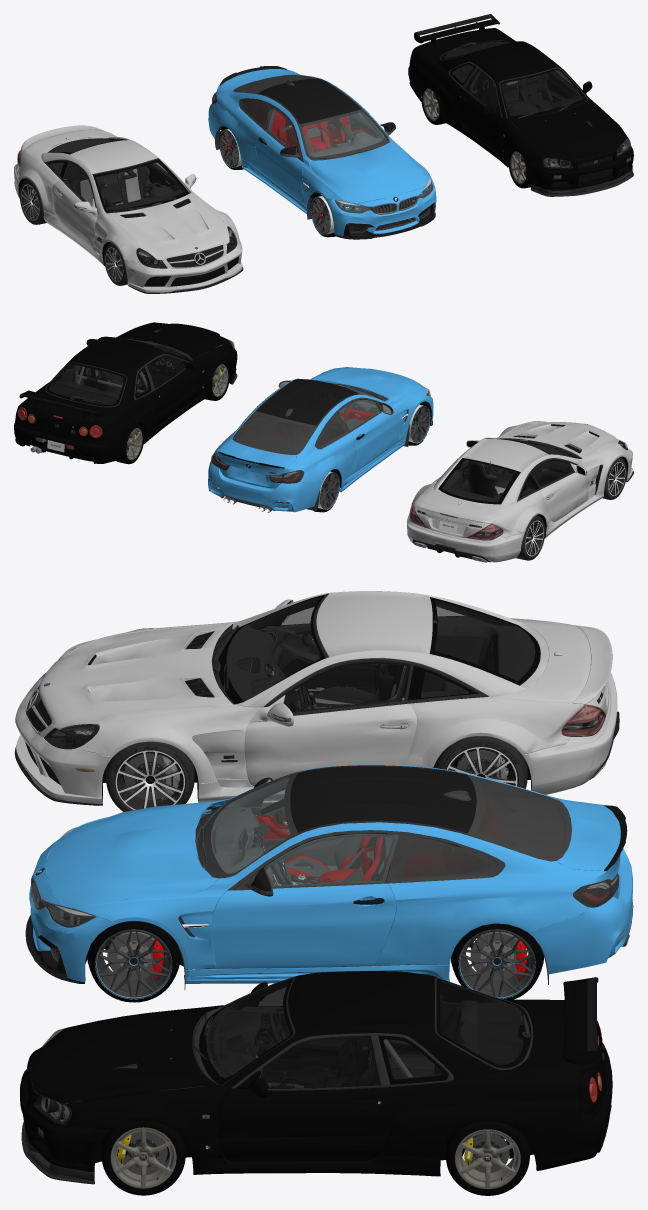
The model's file is cars_7_new.fbx.
3 renders of one model, top to bottom at view 1: azimuth 30°, elevation 25°; view 2: azimuth 150°, elevation 25°; view 3: azimuth 270°, elevation 25°, orthographic. The views are drawn at different scales.
Parts seen in each view (by area): view 1: Body_mMercedesBenz_SL65AMGBla.017, Body_r1Nissan_SkylineGTRR34TN.007, Body_ARm4_main, SeeThrough_mMercedesBenz_SL65AMGBla, SeeThrough_r1Nissan_SkylineGTRR34TN, Body_ARm4_common_carbon, Body_mMercedesBenz_SL65AMGBla.014, Body_ARm4_common_black, SeeThrough_ARm4_glass, Body_r1Nissan_SkylineGTRR34TN.008, Body_r1Nissan_SkylineGTRR34TN.006, Body_mMercedesBenz_SL65AMGBla.003 (+18 smaller); view 2: Body_mMercedesBenz_SL65AMGBla.017, Body_r1Nissan_SkylineGTRR34TN.007, Body_ARm4_main, SeeThrough_r1Nissan_SkylineGTRR34TN, SeeThrough_mMercedesBenz_SL65AMGBla, Body_ARm4_common_carbon, Body_r1Nissan_SkylineGTRR34TN.008, Body_mMercedesBenz_SL65AMGBla.014, Body_ARm4_common_black, Body_ARm4_glass_tinted, Body_r1Nissan_SkylineGTRR34TN.006, Body_mMercedesBenz_SL65AMGBla.003 (+16 smaller); view 3: Body_r1Nissan_SkylineGTRR34TN.007, Body_mMercedesBenz_SL65AMGBla.017, Body_ARm4_main, SeeThrough_mMercedesBenz_SL65AMGBla, SeeThrough_r1Nissan_SkylineGTRR34TN, Body_mMercedesBenz_SL65AMGBla.014, Body_r1Nissan_SkylineGTRR34TN.008, Body_ARm4_common_carbon, Body_ARm4_common_black, SeeThrough_ARm4_glass, Body_r1Nissan_SkylineGTRR34TN.006, Body_mMercedesBenz_SL65AMGBla.003 (+17 smaller).
Part boxes in pixels (x1=…): Body_mMercedesBenz_SL65AMGBla.017: x1=14, y1=125, x2=242, y2=292; Body_r1Nissan_SkylineGTRR34TN.007: x1=408, y1=14, x2=633, y2=189; Body_ARm4_main: x1=208, y1=69, x2=436, y2=236; SeeThrough_mMercedesBenz_SL65AMGBla: x1=17, y1=138, x2=236, y2=268; SeeThrough_r1Nissan_SkylineGTRR34TN: x1=443, y1=41, x2=631, y2=178; Body_ARm4_common_carbon: x1=219, y1=66, x2=435, y2=239; Body_mMercedesBenz_SL65AMGBla.014: x1=49, y1=138, x2=184, y2=210; Body_ARm4_common_black: x1=215, y1=75, x2=434, y2=234; SeeThrough_ARm4_glass: x1=266, y1=108, x2=429, y2=213; Body_r1Nissan_SkylineGTRR34TN.008: x1=444, y1=41, x2=583, y2=115; Body_r1Nissan_SkylineGTRR34TN.006: x1=416, y1=14, x2=633, y2=196; Body_mMercedesBenz_SL65AMGBla.003: x1=44, y1=138, x2=223, y2=267; Body_mMercedesBenz_SL65AMGBla.017: x1=407, y1=421, x2=632, y2=562; Body_r1Nissan_SkylineGTRR34TN.007: x1=14, y1=322, x2=237, y2=463; Body_ARm4_main: x1=208, y1=367, x2=433, y2=512; SeeThrough_r1Nissan_SkylineGTRR34TN: x1=36, y1=322, x2=234, y2=446; SeeThrough_mMercedesBenz_SL65AMGBla: x1=410, y1=421, x2=627, y2=535; Body_ARm4_common_carbon: x1=218, y1=379, x2=432, y2=468; Body_r1Nissan_SkylineGTRR34TN.008: x1=49, y1=344, x2=185, y2=404; Body_mMercedesBenz_SL65AMGBla.014: x1=442, y1=438, x2=573, y2=502; Body_ARm4_common_black: x1=209, y1=378, x2=429, y2=512; Body_ARm4_glass_tinted: x1=236, y1=415, x2=310, y2=453; Body_r1Nissan_SkylineGTRR34TN.006: x1=21, y1=329, x2=237, y2=461; Body_mMercedesBenz_SL65AMGBla.003: x1=414, y1=435, x2=600, y2=562; Body_r1Nissan_SkylineGTRR34TN.007: x1=20, y1=971, x2=612, y2=1176; Body_mMercedesBenz_SL65AMGBla.017: x1=15, y1=591, x2=617, y2=803; Body_ARm4_main: x1=29, y1=764, x2=633, y2=983; SeeThrough_mMercedesBenz_SL65AMGBla: x1=44, y1=597, x2=603, y2=748; SeeThrough_r1Nissan_SkylineGTRR34TN: x1=33, y1=979, x2=611, y2=1137; Body_mMercedesBenz_SL65AMGBla.014: x1=226, y1=597, x2=535, y2=712; Body_r1Nissan_SkylineGTRR34TN.008: x1=206, y1=980, x2=523, y2=1089; Body_ARm4_common_carbon: x1=25, y1=766, x2=627, y2=983; Body_ARm4_common_black: x1=35, y1=772, x2=631, y2=989; SeeThrough_ARm4_glass: x1=60, y1=777, x2=398, y2=924; Body_r1Nissan_SkylineGTRR34TN.006: x1=21, y1=977, x2=604, y2=1184; Body_mMercedesBenz_SL65AMGBla.003: x1=25, y1=593, x2=606, y2=778.
Bounding box in the file's own units: 9.04 × 1.45 × 4.79.
Materials: 117 (117 with a texture image).
